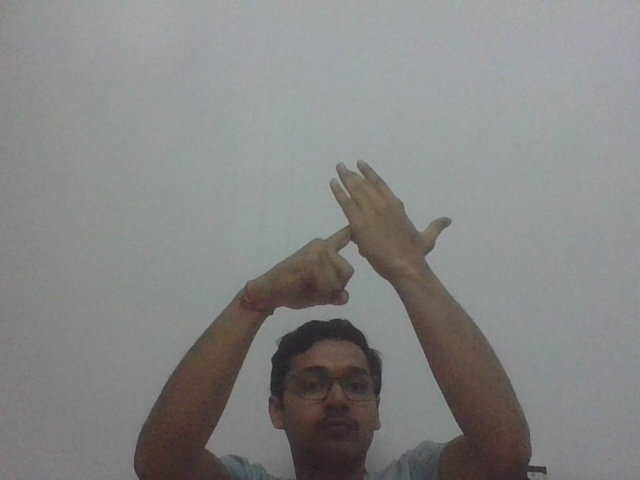R: (288, 155, 460, 308)
